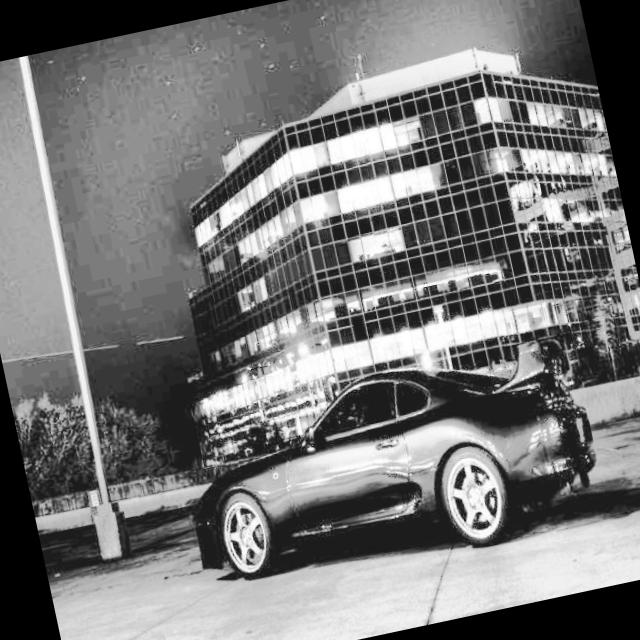Car: (186, 297, 626, 626)
